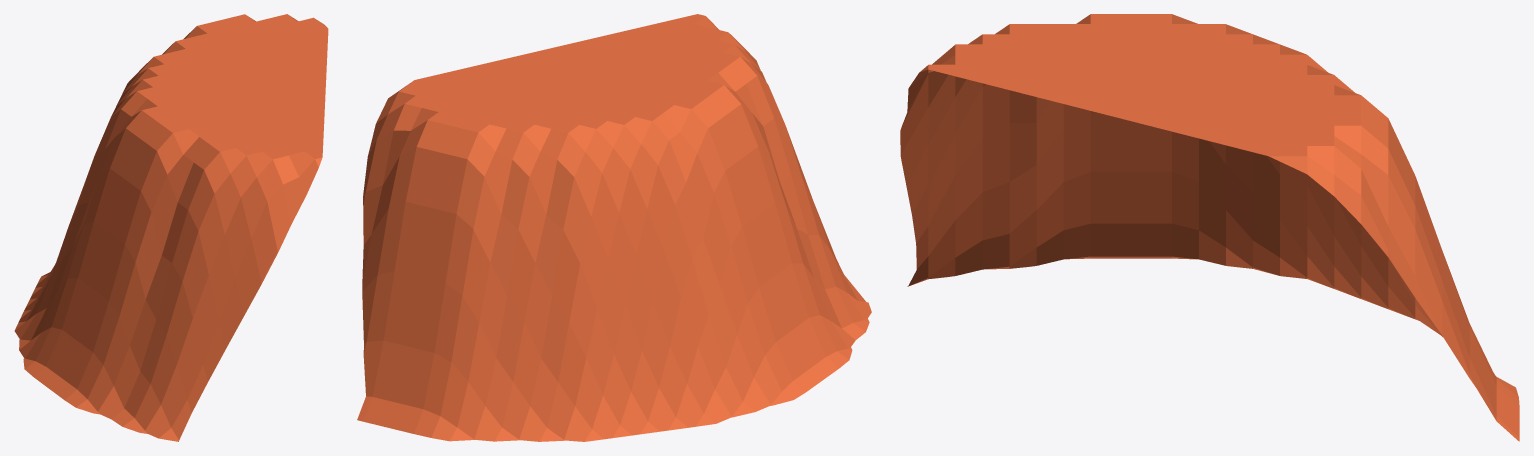
Rendered from sand_mountain_1.fbx.
3 views of the same model, side by side, from view 1: azimuth 30°, elevation 25°; view 2: azimuth 150°, elevation 25°; view 3: azimuth 270°, elevation 25° (orthographic). The views are drawn at different scales.
Parts seen in each view (by area): view 1: Plane.016; view 2: Plane.016; view 3: Plane.016.
Part boxes in pixels (x1=…): Plane.016: x1=14, y1=14, x2=328, y2=441; Plane.016: x1=357, y1=14, x2=871, y2=441; Plane.016: x1=900, y1=14, x2=1519, y2=441.
Size of the model in its own units: 1591 by 1067 by 1907.
